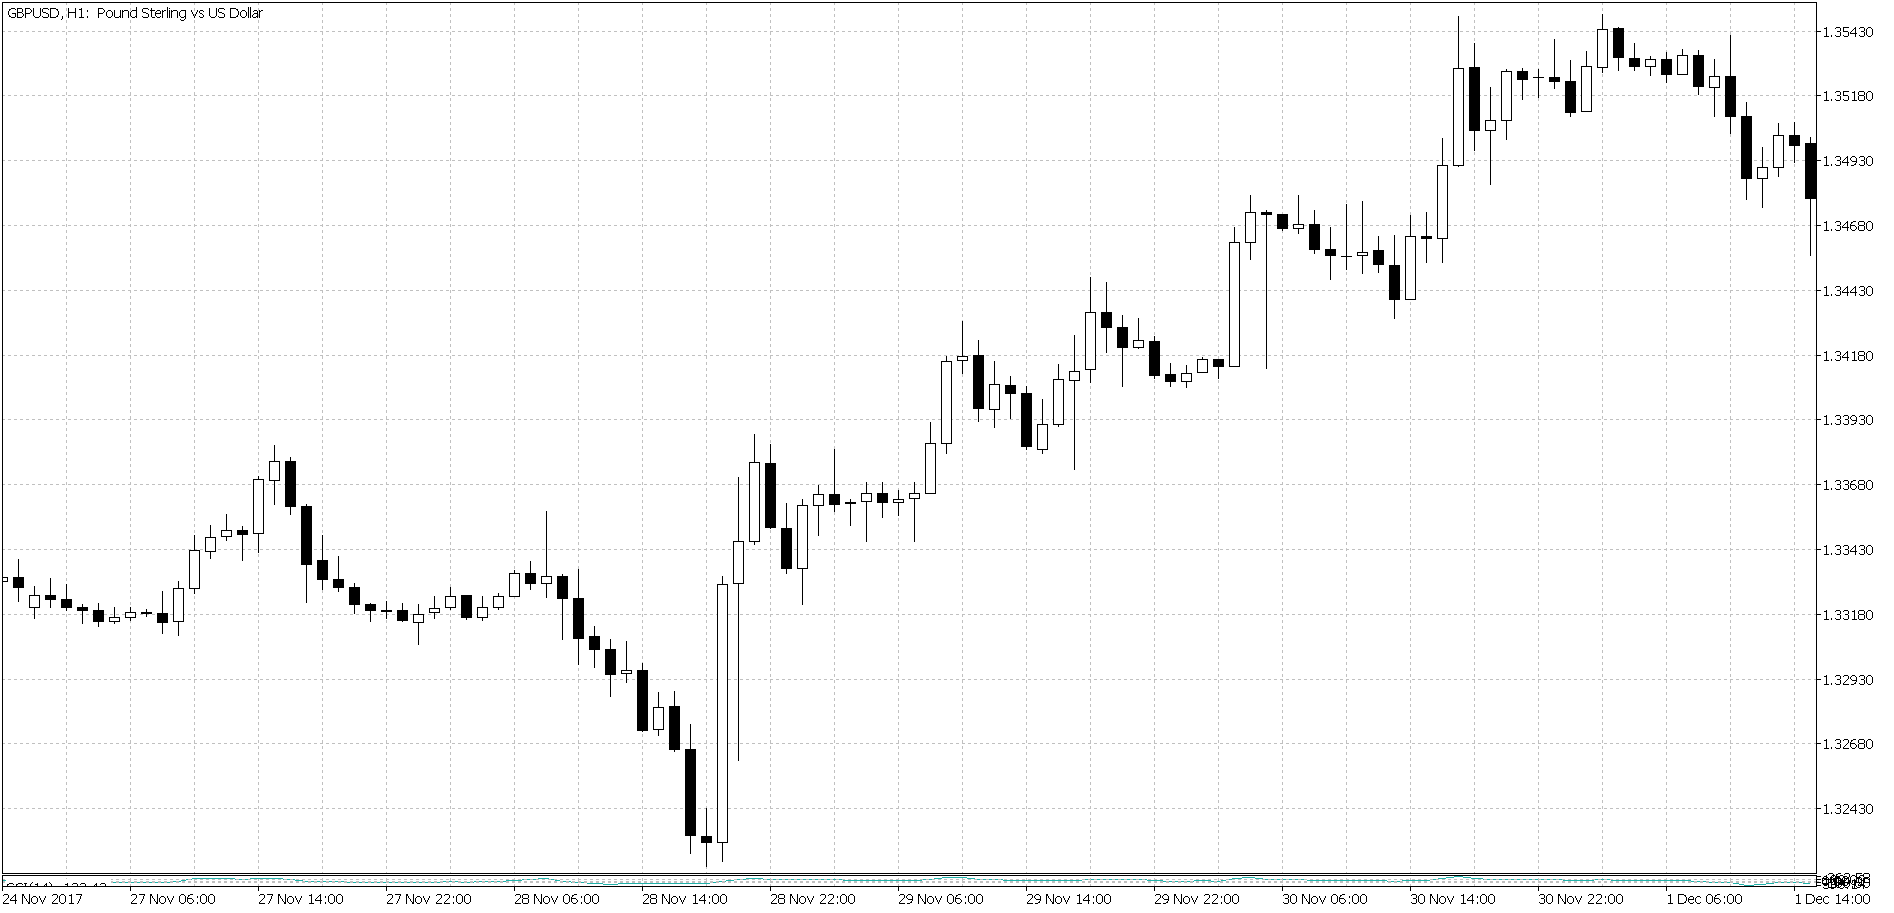bearishEngulfing: (268, 437, 300, 525)
eveningStar: (939, 320, 987, 466)
hammer: (554, 571, 570, 646)
morningStar: (682, 566, 731, 867)
